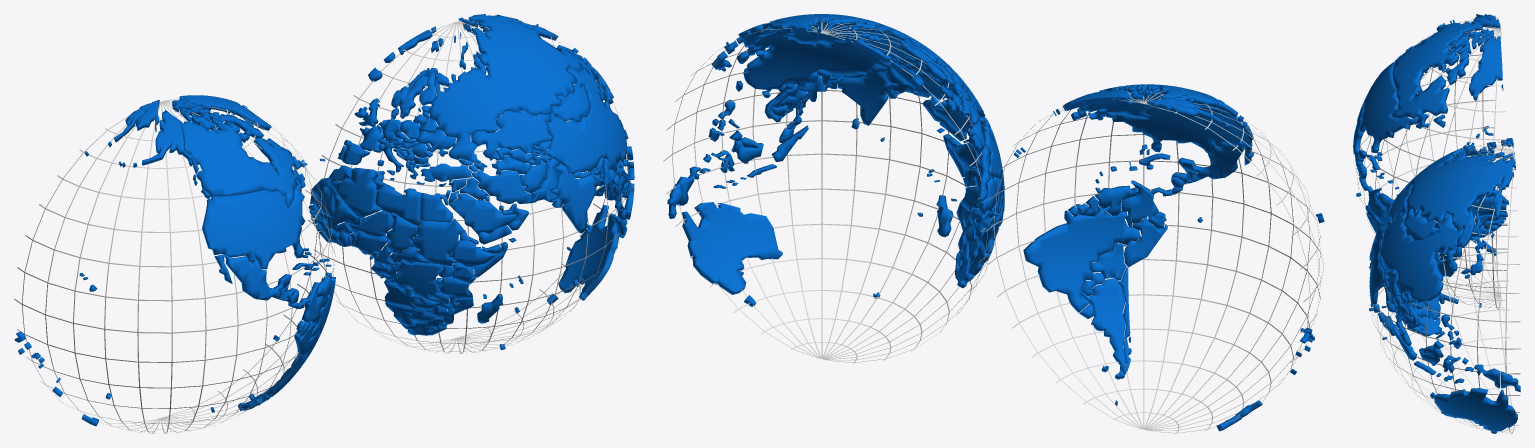
Rendered from split_globe.dae.
3 renders of one model, left to right at view 1: azimuth 30°, elevation 25°; view 2: azimuth 150°, elevation 25°; view 3: azimuth 270°, elevation 25°, orthographic. The views are drawn at different scales.
Parts seen in each view (by area): view 1: Sphere, Latlong; view 2: Sphere, Latlong; view 3: Sphere, Latlong.
Part boxes in pixels (x1,y1,x2,y2): Sphere: (14,14,634,426); Latlong: (14,19,630,433); Sphere: (667,14,1324,431); Latlong: (663,21,1323,433); Sphere: (1353,14,1520,433); Latlong: (1355,15,1520,433).
Bounding box in the file's own units: 2.59 × 0.7372 × 1.3.
